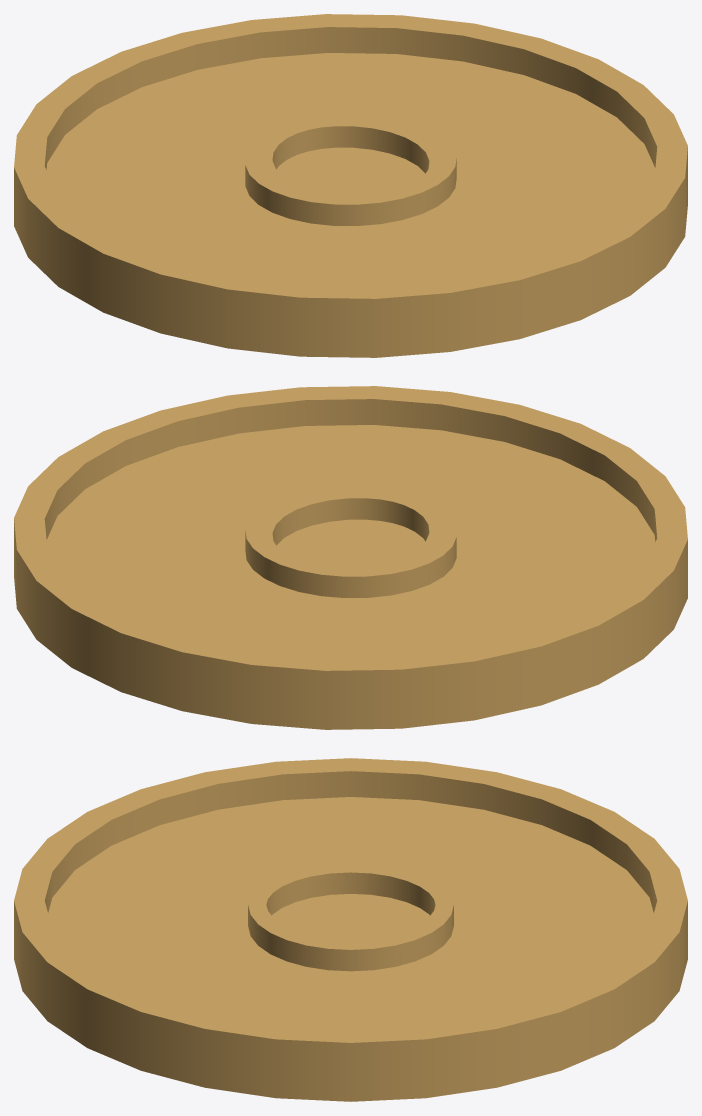
The model's file is Coin Single 3 .fbx.
The picture shows the model from 3 angles, top to bottom: view 1: azimuth 30°, elevation 25°; view 2: azimuth 150°, elevation 25°; view 3: azimuth 270°, elevation 25°; orthographic projection.
Visible parts, largest first — view 1: Coin 3.001; view 2: Coin 3.001; view 3: Coin 3.001.
Boxes of the visible parts, left/top/right/bottom form: Coin 3.001: left=14, top=14, right=687, bottom=357; Coin 3.001: left=14, top=386, right=687, bottom=729; Coin 3.001: left=14, top=758, right=687, bottom=1101.
Bounding box in the file's own units: 18.71 × 1.8 × 18.71.
